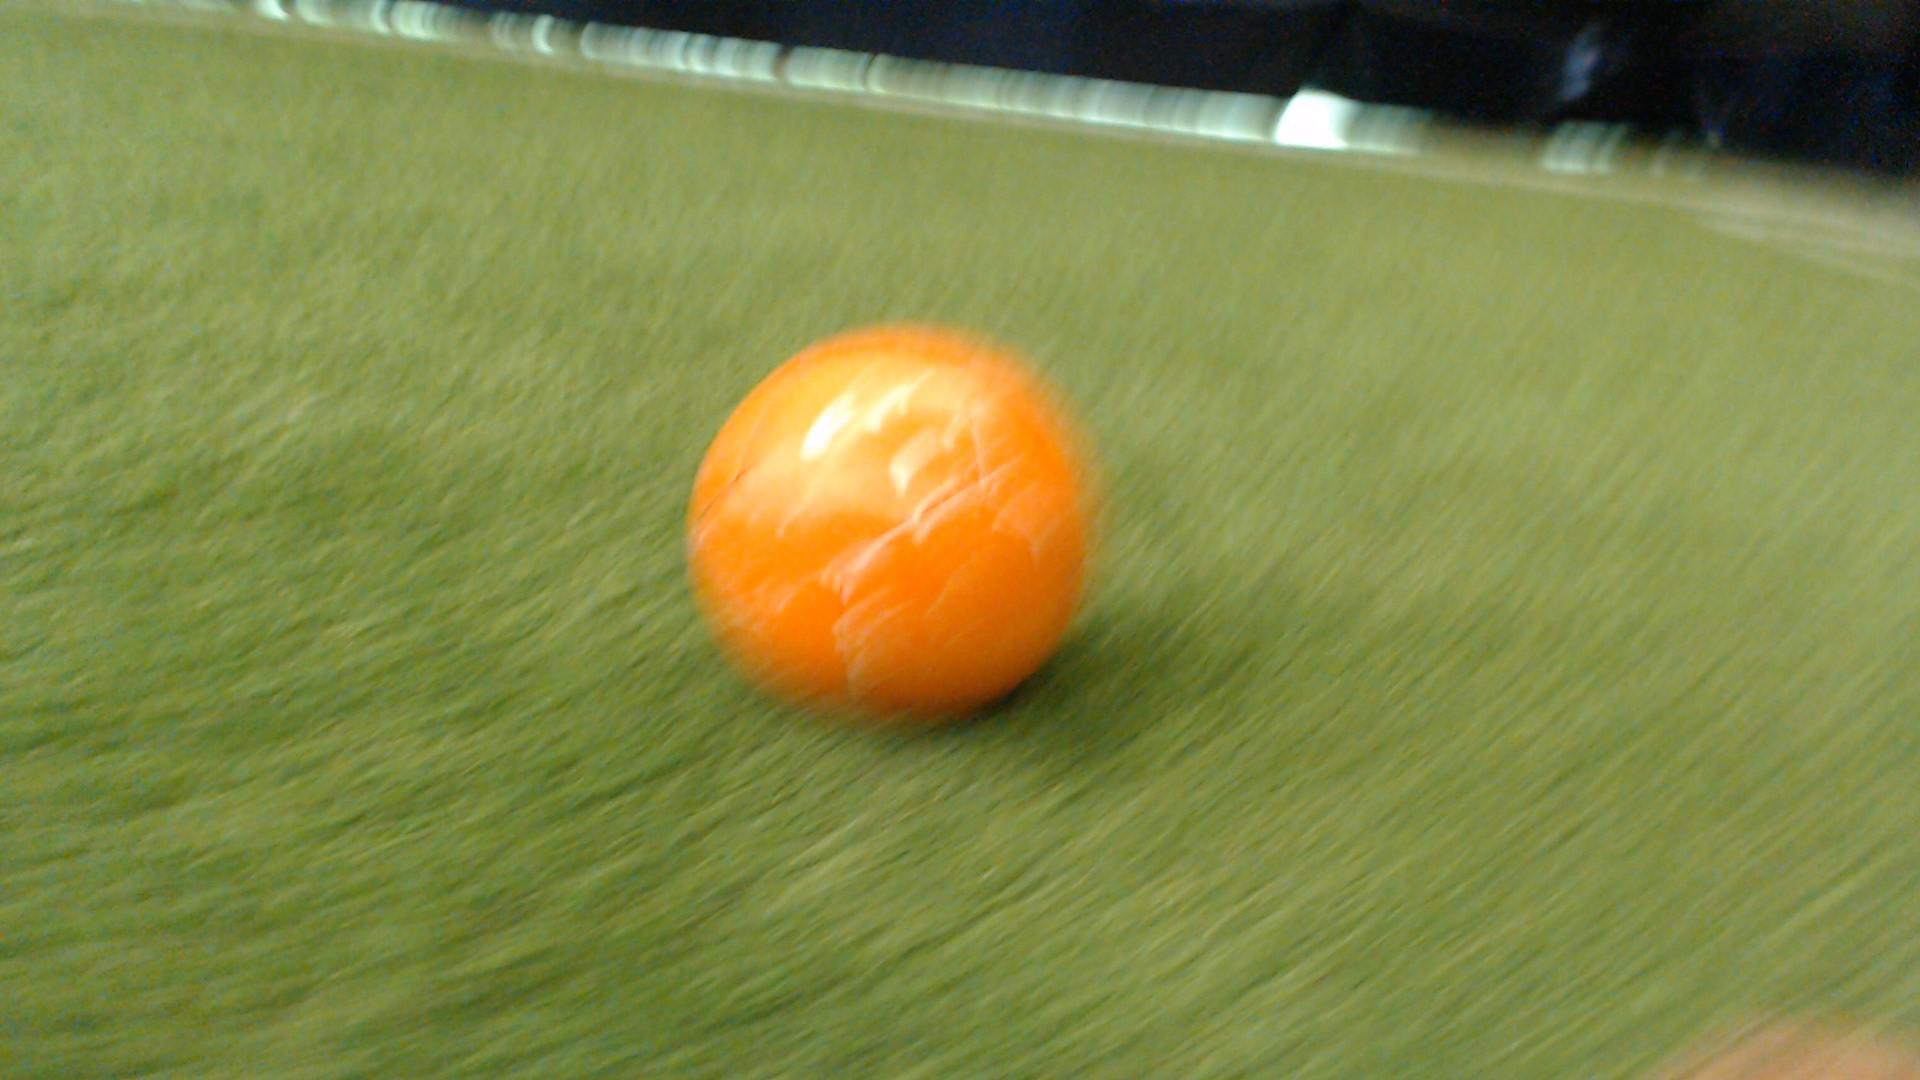bola: (658, 289, 1130, 748)
